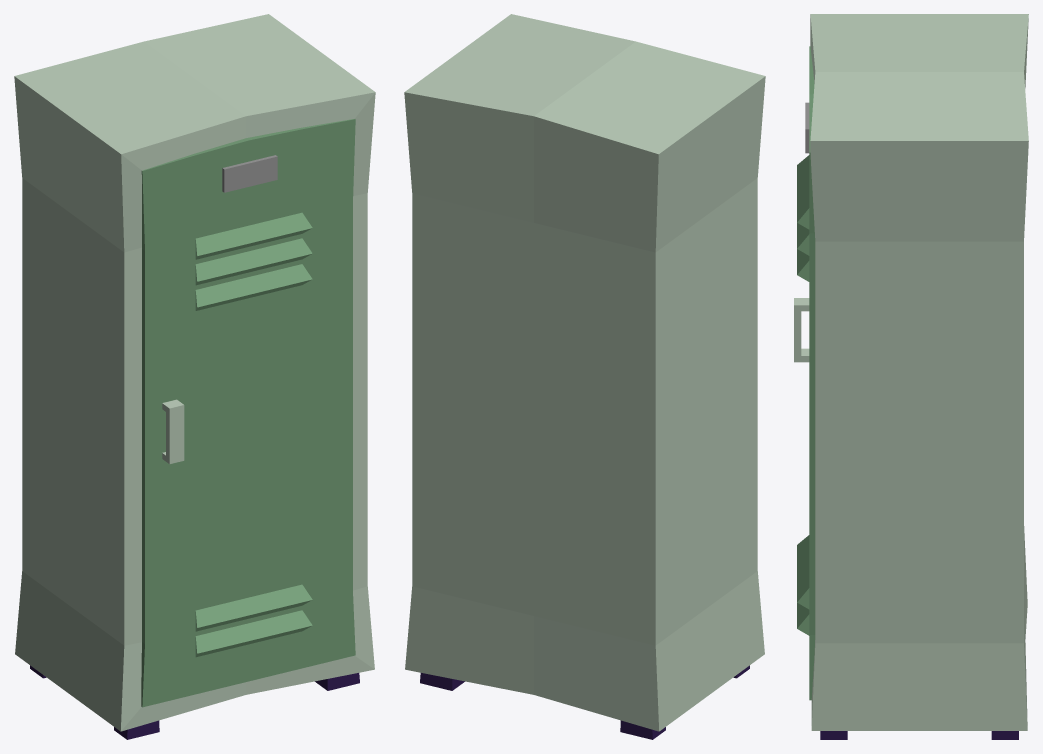
File: Locker.fbx
3 renders of one model, left to right at view 1: azimuth 30°, elevation 25°; view 2: azimuth 150°, elevation 25°; view 3: azimuth 270°, elevation 25°, orthographic. The views are drawn at different scales.
Parts seen in each view (by area): view 1: Locker, LockerDoorPiece1, LockerDoor, LockerPiece3, LockerPiece1, LockerDoorPiece2, LockerDoorPiece3, LockerPiece2; view 2: Locker, LockerPiece1, LockerPiece3, LockerPiece2; view 3: Locker, LockerPiece2, LockerPiece1, LockerDoor, LockerDoorPiece1, LockerPiece3, LockerDoorPiece3, LockerDoorPiece2.
Part boxes in pixels (x1=…): Locker: x1=14, y1=14, x2=375, y2=696; LockerDoorPiece1: x1=141, y1=119, x2=355, y2=399; LockerDoor: x1=141, y1=119, x2=355, y2=707; LockerPiece3: x1=15, y1=476, x2=374, y2=739; LockerPiece1: x1=14, y1=74, x2=375, y2=337; LockerDoorPiece2: x1=142, y1=325, x2=277, y2=609; LockerDoorPiece3: x1=143, y1=377, x2=355, y2=700; LockerPiece2: x1=58, y1=213, x2=367, y2=550; Locker: x1=404, y1=14, x2=765, y2=739; LockerPiece1: x1=411, y1=71, x2=762, y2=335; LockerPiece3: x1=428, y1=476, x2=763, y2=738; LockerPiece2: x1=719, y1=264, x2=757, y2=420; Locker: x1=810, y1=14, x2=1028, y2=739; LockerPiece2: x1=815, y1=261, x2=1023, y2=584; LockerPiece1: x1=810, y1=14, x2=1028, y2=261; LockerDoor: x1=794, y1=46, x2=815, y2=700; LockerDoorPiece1: x1=797, y1=130, x2=815, y2=437; LockerPiece3: x1=811, y1=584, x2=1023, y2=732; LockerDoorPiece3: x1=797, y1=437, x2=815, y2=698; LockerDoorPiece2: x1=794, y1=298, x2=809, y2=362.
Size of the model in its own units: 881 by 1975 by 689.
